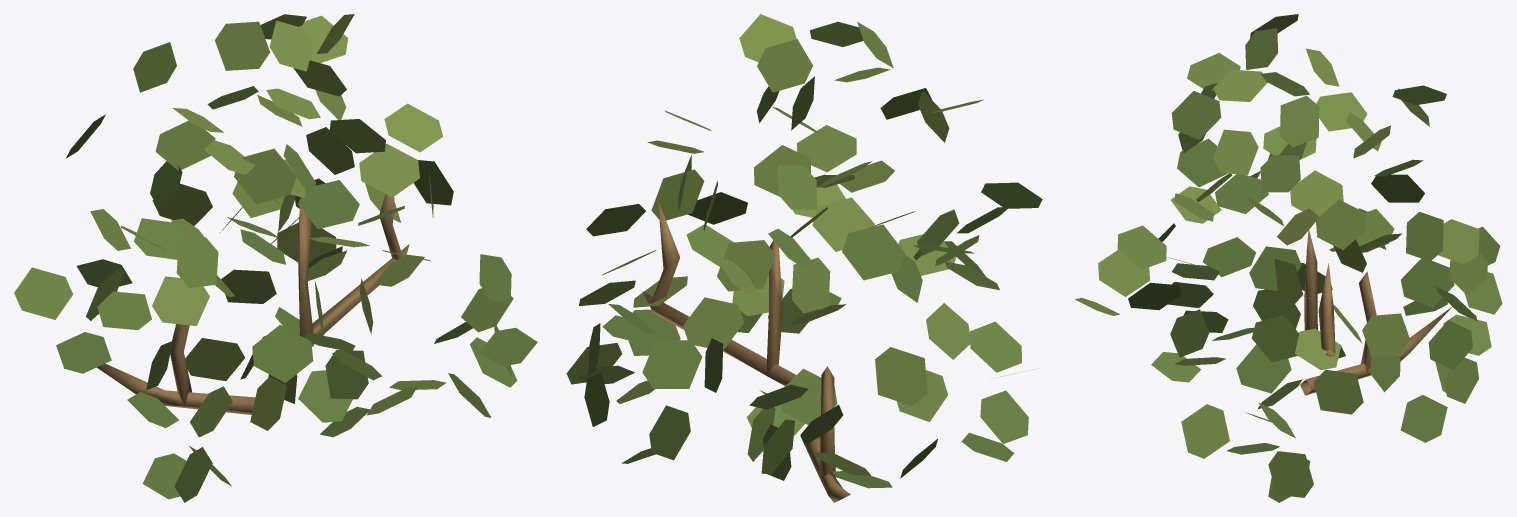
File: meadow_shrub_lod2.glb
The picture shows the model from 3 angles, left to right: view 1: azimuth 30°, elevation 25°; view 2: azimuth 150°, elevation 25°; view 3: azimuth 270°, elevation 25°; orthographic projection. The views are drawn at different scales.
Visible parts, largest first — view 1: Leaves.011, Trunk.011; view 2: Leaves.011, Trunk.011; view 3: Leaves.011, Trunk.011.
Part boxes in pixels (bbox=[...]): Leaves.011: bbox=[14, 14, 537, 502]; Trunk.011: bbox=[97, 194, 409, 414]; Leaves.011: bbox=[566, 14, 1042, 488]; Trunk.011: bbox=[642, 200, 850, 502]; Leaves.011: bbox=[1075, 14, 1502, 502]; Trunk.011: bbox=[1300, 230, 1452, 395].
Bounding box in the file's own units: 1.15 × 1.17 × 1.15.
